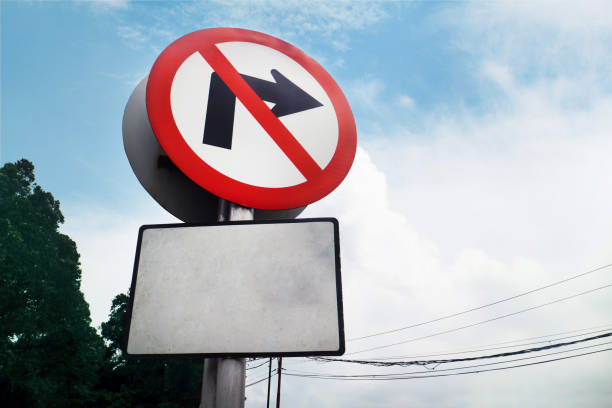saga_donulmez: (148, 28, 360, 214)
